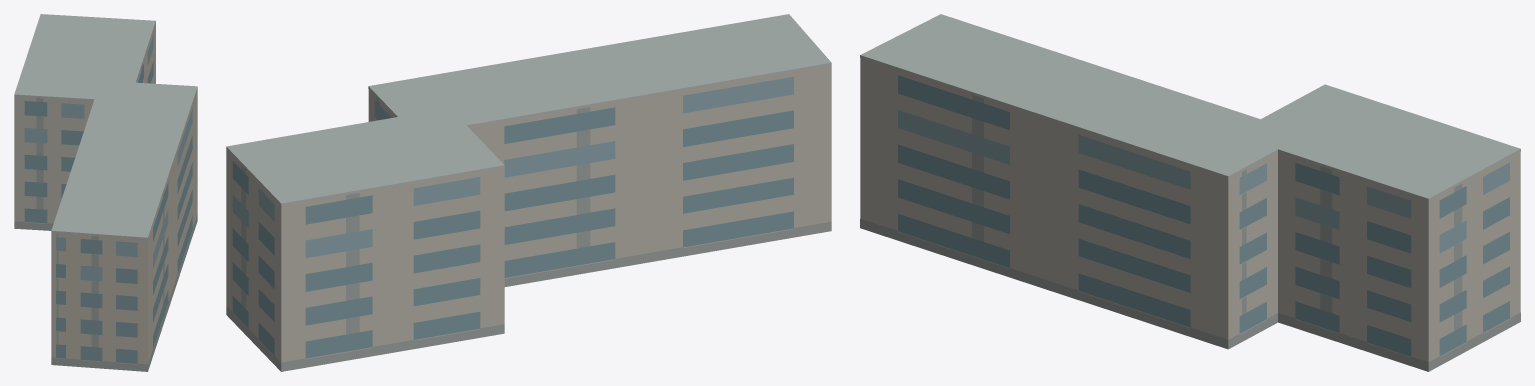
File: residential-5ac86998-7049-485c-a322-1d3e6f82240e.glb
3 renders of one model, left to right at view 1: azimuth 30°, elevation 25°; view 2: azimuth 150°, elevation 25°; view 3: azimuth 270°, elevation 25°, orthographic. The views are drawn at different scales.
Parts seen in each view (by area): view 1: residential-5ac86998-7049-485c-a322-1d3e6f82240e.tmp; view 2: residential-5ac86998-7049-485c-a322-1d3e6f82240e.tmp; view 3: residential-5ac86998-7049-485c-a322-1d3e6f82240e.tmp.
Part boxes in pixels (box(x1,y1,x2,y2)): residential-5ac86998-7049-485c-a322-1d3e6f82240e.tmp: box(14, 14, 197, 371); residential-5ac86998-7049-485c-a322-1d3e6f82240e.tmp: box(226, 14, 831, 371); residential-5ac86998-7049-485c-a322-1d3e6f82240e.tmp: box(860, 14, 1520, 371).
Bounding box in the file's own units: 34.92 × 15.25 × 52.74.
